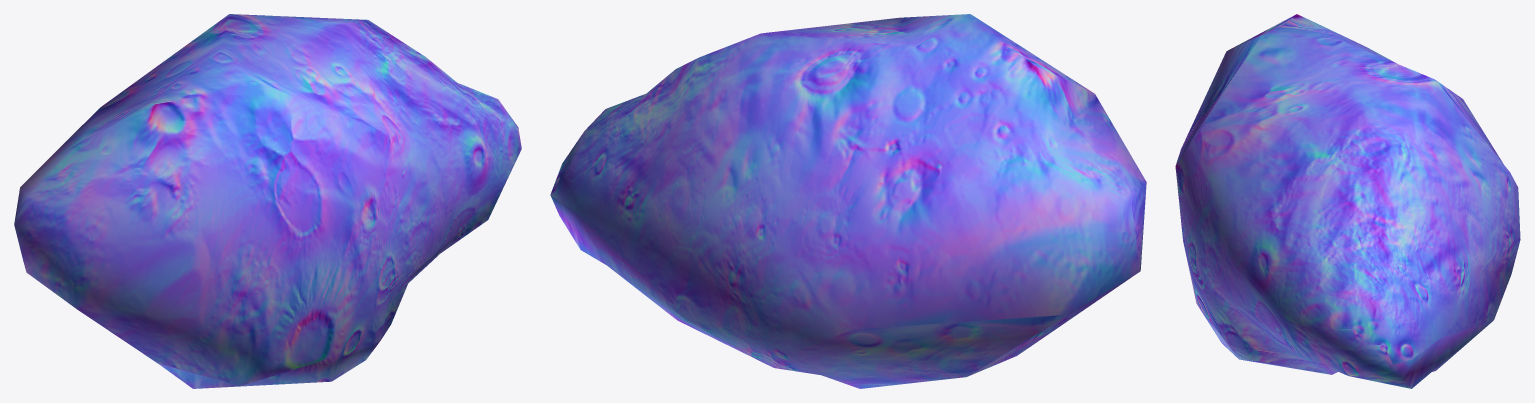
Rendered from Asteroid4.glb.
The picture shows the model from 3 angles, left to right: view 1: azimuth 30°, elevation 25°; view 2: azimuth 150°, elevation 25°; view 3: azimuth 270°, elevation 25°; orthographic projection. The views are drawn at different scales.
Parts seen in each view (by area): view 1: Asteroid_04_LOD0; view 2: Asteroid_04_LOD0; view 3: Asteroid_04_LOD0.
Boxes of the visible parts, left/top/right/bottom form: Asteroid_04_LOD0: left=14, top=14, right=521, bottom=388; Asteroid_04_LOD0: left=550, top=14, right=1146, bottom=388; Asteroid_04_LOD0: left=1175, top=14, right=1520, bottom=388.
Size of what is drawn, in the model's own units: 6.99 by 3.96 by 4.24.
Materials: 1 (1 with a texture image).
